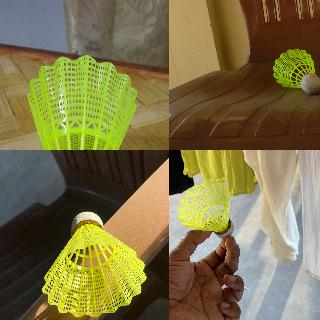shuttlecock: (42, 211, 146, 317), (26, 54, 138, 149), (177, 180, 233, 238), (272, 48, 319, 94)
